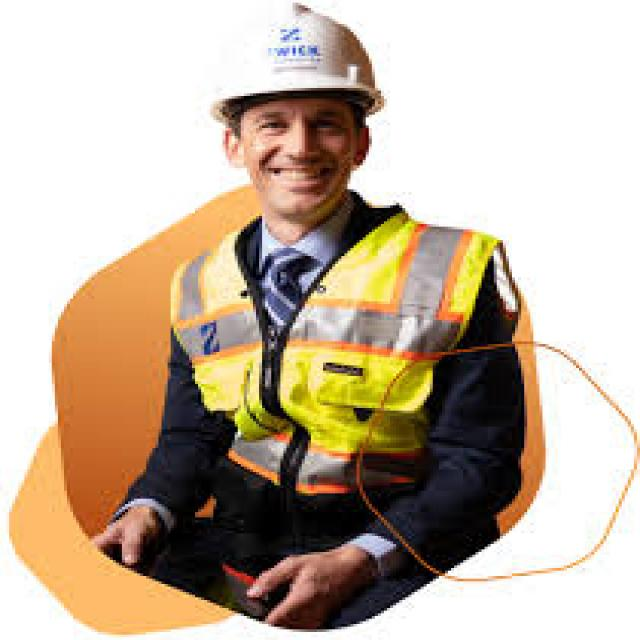Reflective-Jacket: (156, 208, 536, 597)
Safety-Helmet: (198, 3, 390, 120)
